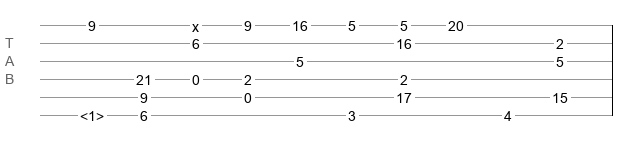0: (192, 72, 200, 82), (244, 90, 252, 100)
15: (552, 90, 568, 100)
16: (292, 18, 308, 28), (396, 36, 412, 46)
17: (396, 90, 412, 100)
2: (244, 72, 252, 82), (400, 72, 408, 82), (556, 36, 564, 46)
20: (448, 18, 464, 28)
21: (136, 72, 152, 82)
3: (348, 108, 356, 118)
4: (504, 108, 512, 118)
5: (296, 54, 304, 64), (348, 18, 356, 28), (400, 18, 408, 28), (556, 54, 564, 64)
6: (140, 108, 148, 118), (192, 36, 200, 46)
9: (88, 18, 96, 28), (140, 90, 148, 100), (244, 18, 252, 28)
harmonic: (80, 108, 104, 118)
x: (192, 19, 199, 27)
